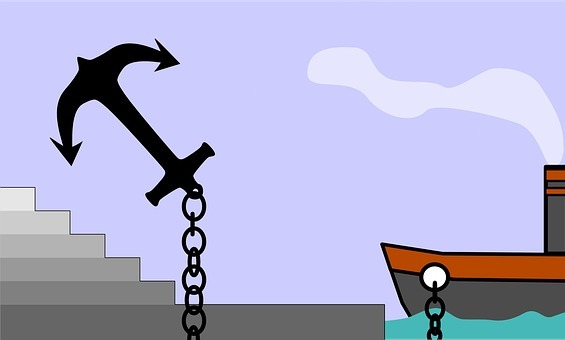boat: (367, 149, 562, 323)
